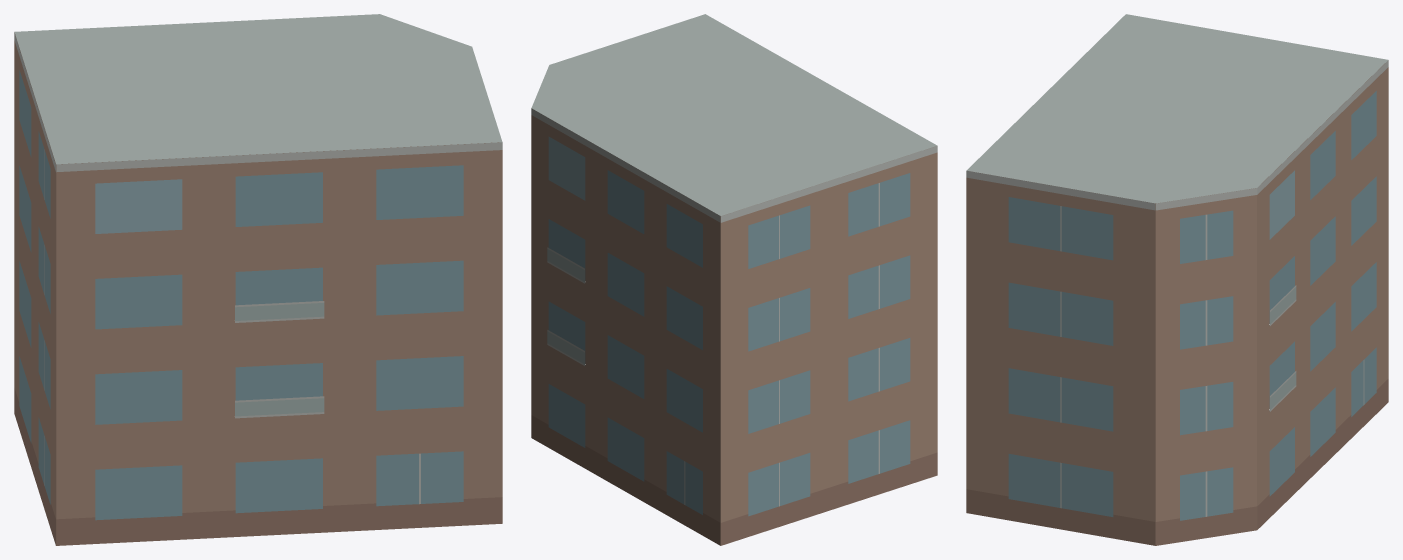
File: survey-upis-32520374.glb
3 views of the same model, side by side, from view 1: azimuth 30°, elevation 25°; view 2: azimuth 150°, elevation 25°; view 3: azimuth 270°, elevation 25° (orthographic). The views are drawn at different scales.
Visible parts, largest first — view 1: survey-upis-32520374.tmp; view 2: survey-upis-32520374.tmp; view 3: survey-upis-32520374.tmp.
Boxes of the visible parts, <box> form: survey-upis-32520374.tmp: <box>14,14,502,545</box>; survey-upis-32520374.tmp: <box>531,14,937,545</box>; survey-upis-32520374.tmp: <box>966,14,1388,545</box>.
Bounding box in the file's own units: 14.13 × 11.9 × 13.31.
